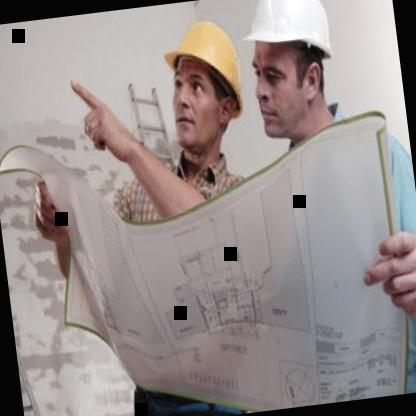helmet: (224, 0, 352, 149), (149, 13, 263, 164)
